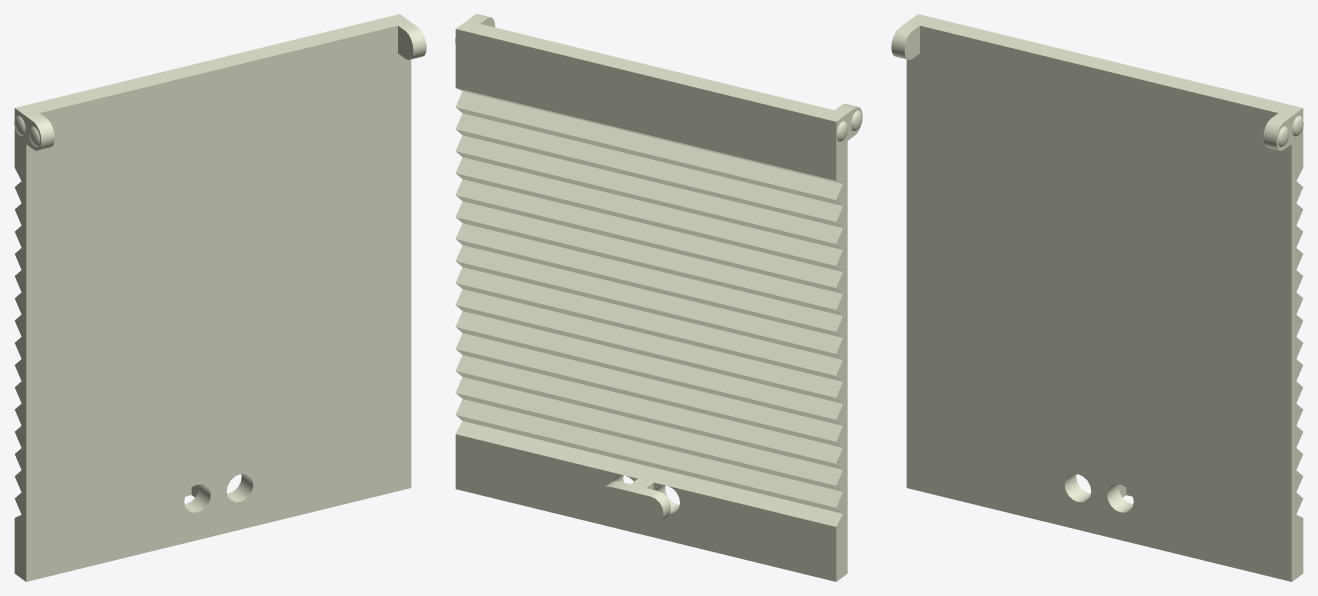
File: window.fbx
The picture shows the model from 3 angles, left to right: view 1: azimuth 30°, elevation 25°; view 2: azimuth 150°, elevation 25°; view 3: azimuth 330°, elevation 25°; orthographic projection.
Parts seen in each view (by area): view 1: Part.119; view 2: Part.119; view 3: Part.119.
Boxes of the visible parts, x1,y1,x2,y2 form: Part.119: (14, 14, 426, 581); Part.119: (455, 14, 862, 581); Part.119: (891, 14, 1303, 581).
Bounding box in the file's own units: 282 × 320 × 52.59.
